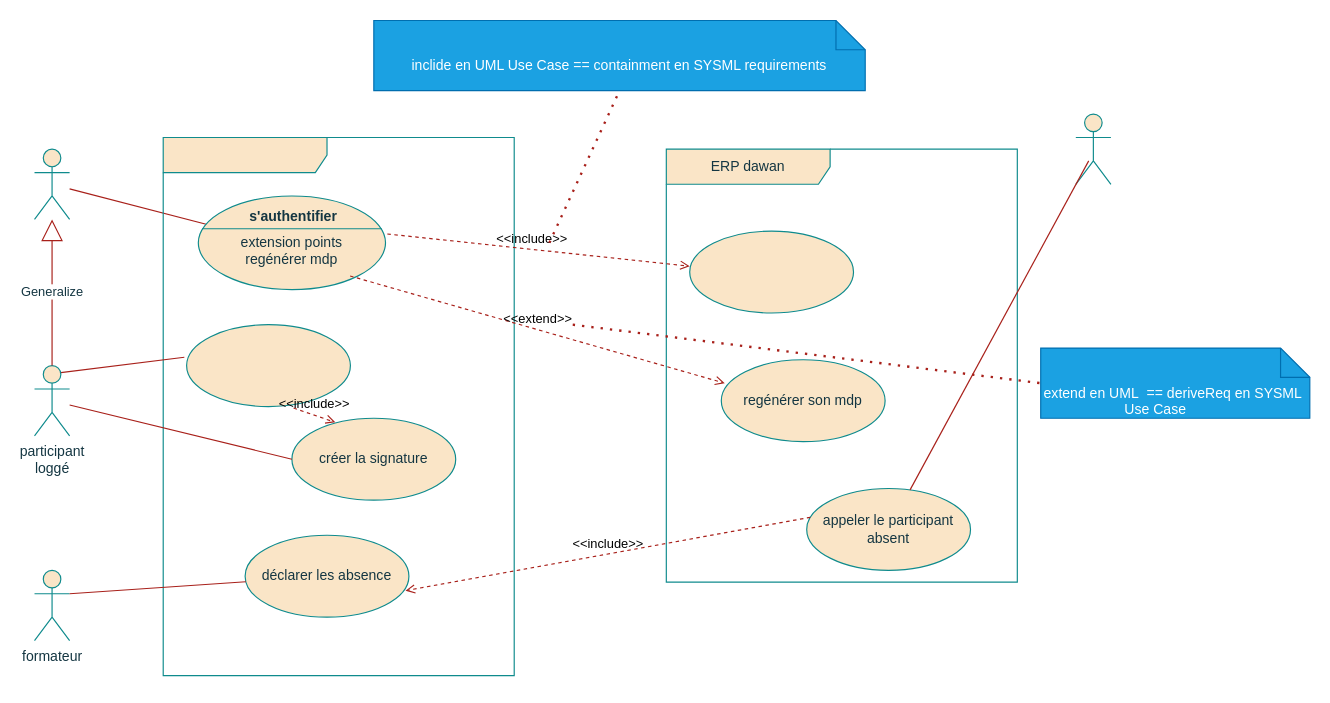
Some shapes in this 1330 by 703 pixel diagram are drawn without their labels. Each missing label, with the box of its shape:
Administratif: (1075, 113, 1111, 184)
moncompte.dawan.fr: (162, 136, 514, 676)
participant: (33, 148, 70, 219)
S'authentifier sur l'idP via le SSO: (689, 230, 854, 313)
éditer la fiche de présence: (185, 324, 350, 407)
